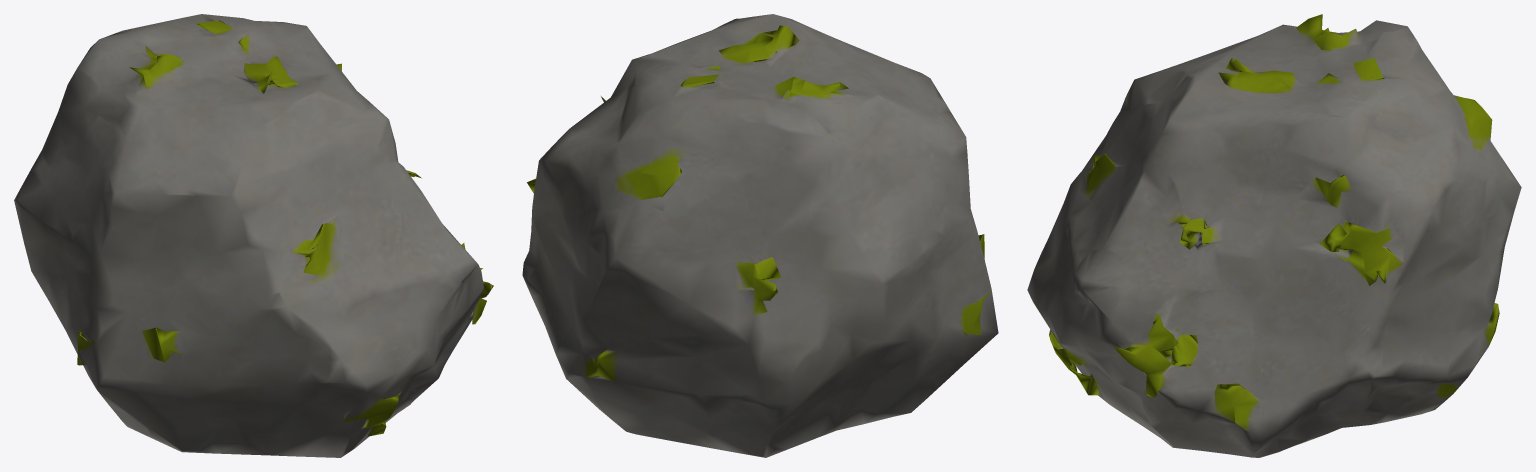
File: rock.glb
3 renders of one model, left to right at view 1: azimuth 30°, elevation 25°; view 2: azimuth 150°, elevation 25°; view 3: azimuth 270°, elevation 25°, orthographic. The views are drawn at different scales.
Visible parts, largest first — view 1: tripo_node_1b2b33e1-2831-4879-b13f-ea0d54d25b76; view 2: tripo_node_1b2b33e1-2831-4879-b13f-ea0d54d25b76; view 3: tripo_node_1b2b33e1-2831-4879-b13f-ea0d54d25b76.
Boxes of the visible parts, x1,y1,x2,y2 form: tripo_node_1b2b33e1-2831-4879-b13f-ea0d54d25b76: (14,14,493,457); tripo_node_1b2b33e1-2831-4879-b13f-ea0d54d25b76: (522,14,998,457); tripo_node_1b2b33e1-2831-4879-b13f-ea0d54d25b76: (1027,14,1521,457).
Size of the model in its own units: 0.9132 by 0.7512 by 1.
Materials: 1 (1 with a texture image).
